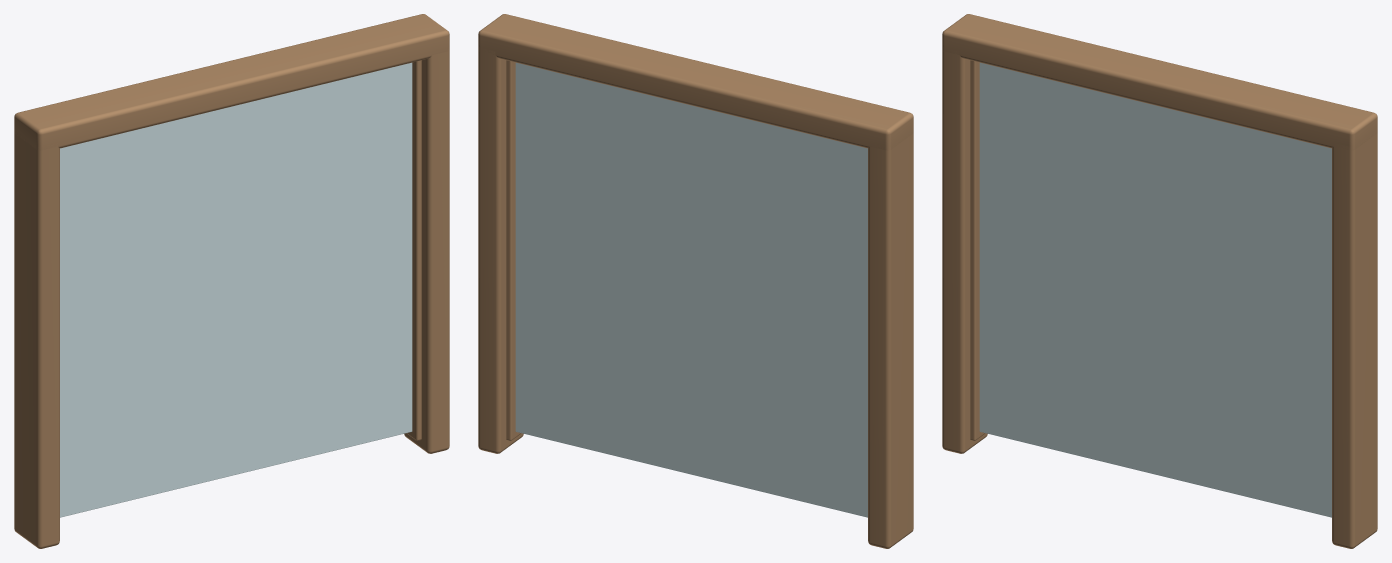
The model's file is atelier-picture-window.glb.
3 renders of one model, left to right at view 1: azimuth 30°, elevation 25°; view 2: azimuth 150°, elevation 25°; view 3: azimuth 330°, elevation 25°, orthographic.
Parts seen in each view (by area): view 1: glass.028, legs.250; view 2: glass.028, legs.250; view 3: glass.028, legs.250.
Boxes of the visible parts, bbox=[...] form: glass.028: bbox=[60, 62, 412, 517]; legs.250: bbox=[14, 14, 449, 548]; glass.028: bbox=[515, 62, 867, 517]; legs.250: bbox=[478, 14, 913, 548]; glass.028: bbox=[979, 62, 1331, 517]; legs.250: bbox=[942, 14, 1377, 548].
Size of the model in its own units: 1.27 by 1.24 by 0.14.
